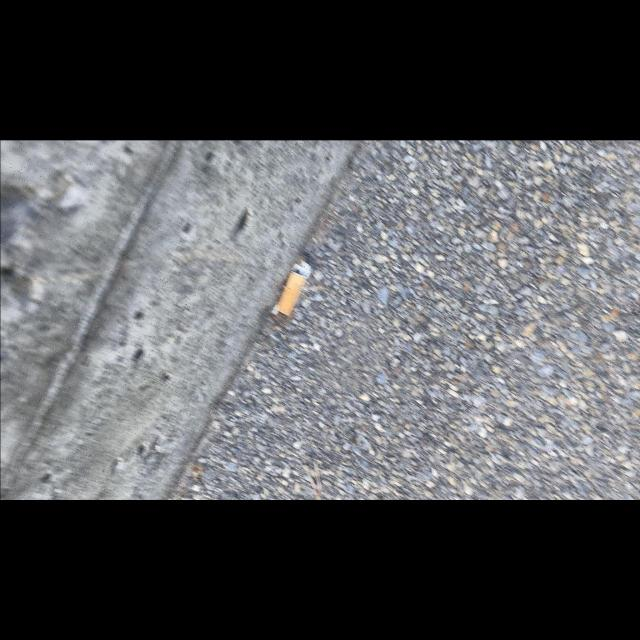cigarette: (274, 259, 312, 317)
